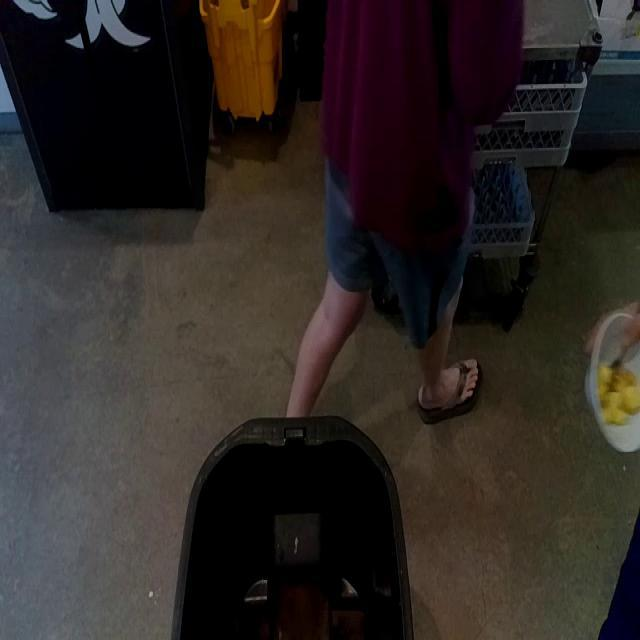Anorganik: (590, 311, 640, 453)
Organik: (598, 360, 634, 426)
